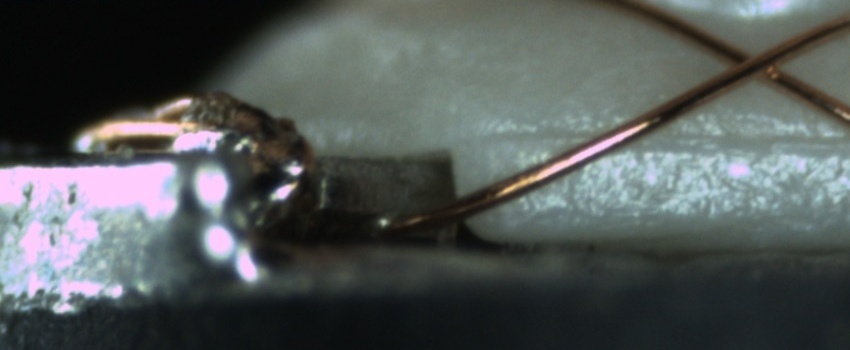CL: (710, 33, 805, 90)
DL: (478, 106, 849, 171)
TE: (71, 87, 215, 164)
